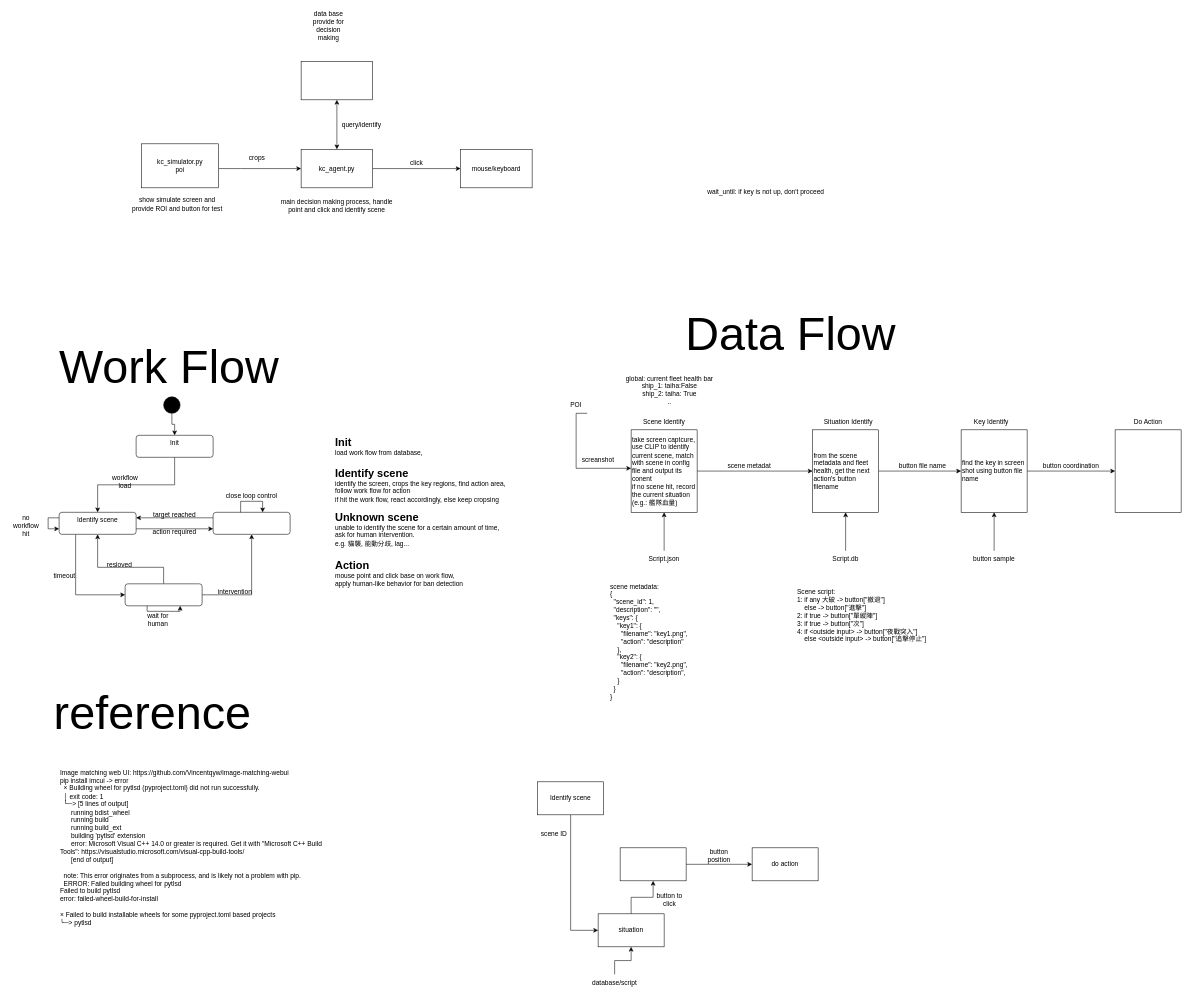
The diagram is 1191 pixels wide and 1000 high, and some of its shapes have lost their labels. The shapes that lost their labels are listed below. From the top down, each one's box as (x1, y1, x2, y2) in pixels, then its label:
(301, 61, 373, 100): key crops text db
(1115, 429, 1181, 512): click the coordination and go back to screenshots
(213, 512, 290, 534): Action
(125, 583, 202, 606): Unknown scene
(620, 847, 686, 881): find key
